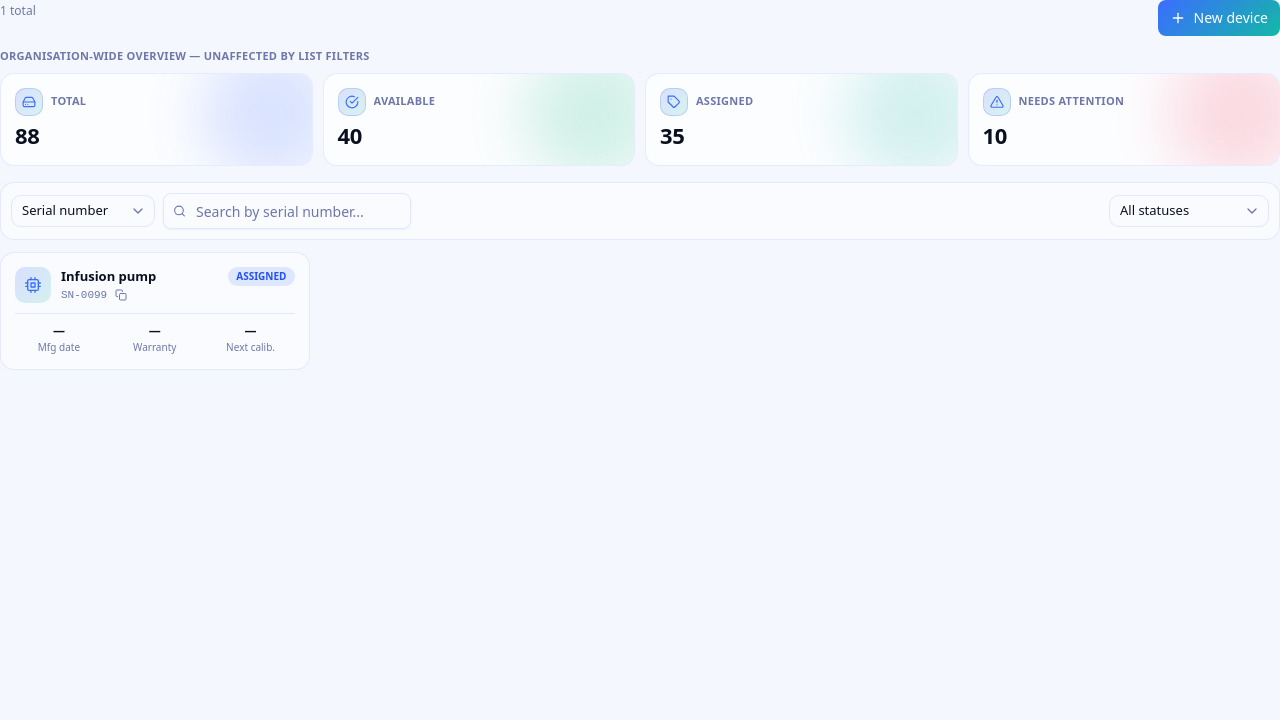
InventoryDevicesPanel — card click opens a detail drawer, Edit lives inside it › a manager clicks a card to open the drawer, then Edit inside it to open the edit modal
What coordinates should you click on to do the following:
click the text "SN-0099"
I would click on:
 (84, 295)
Its box is [61,286,107,303].
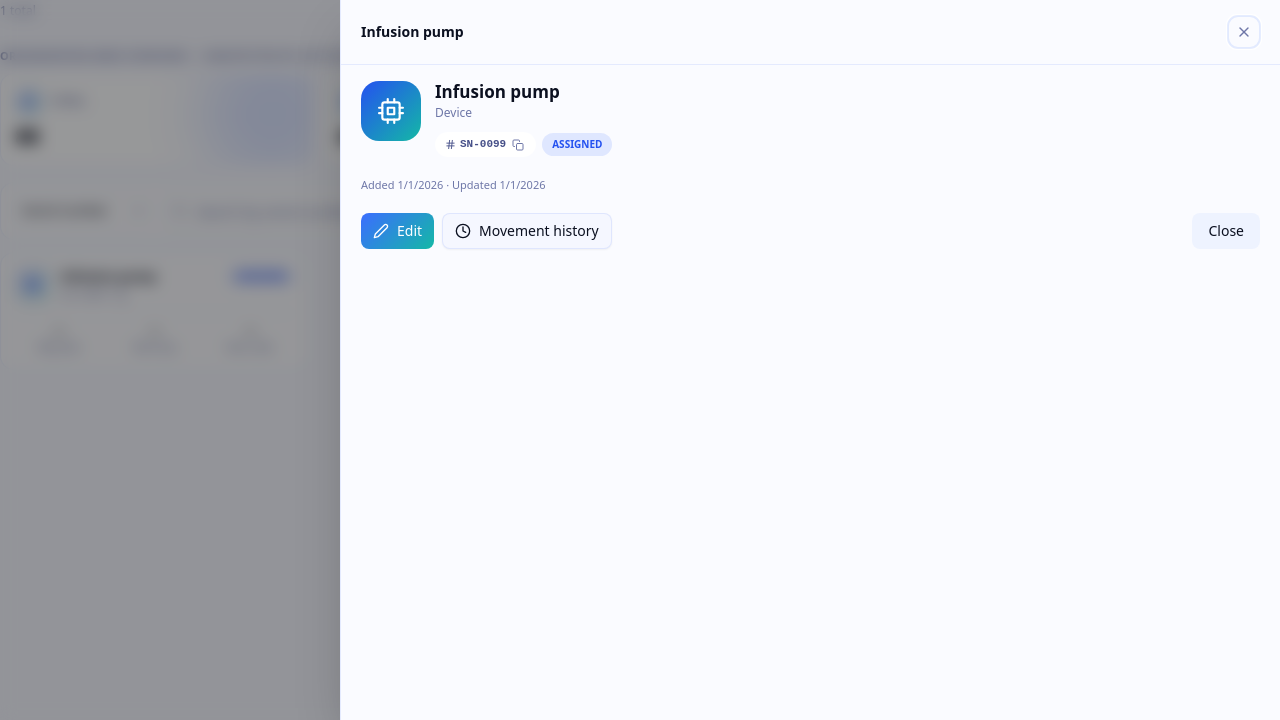
What coordinates should you click on to do the following:
click the button "Edit"
I would click on:
 (398, 231)
Its box is [361,213,434,249].
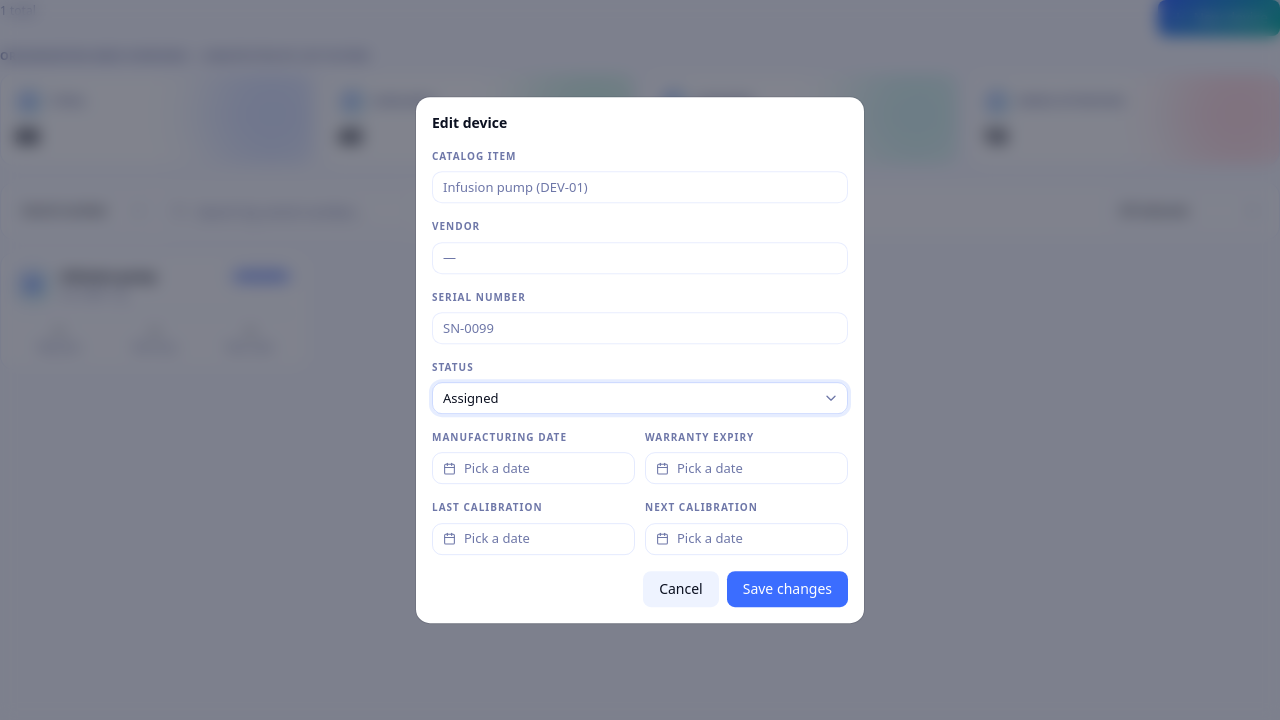
Check: the heading "Edit device" is shown, box [432,113,507,132]
